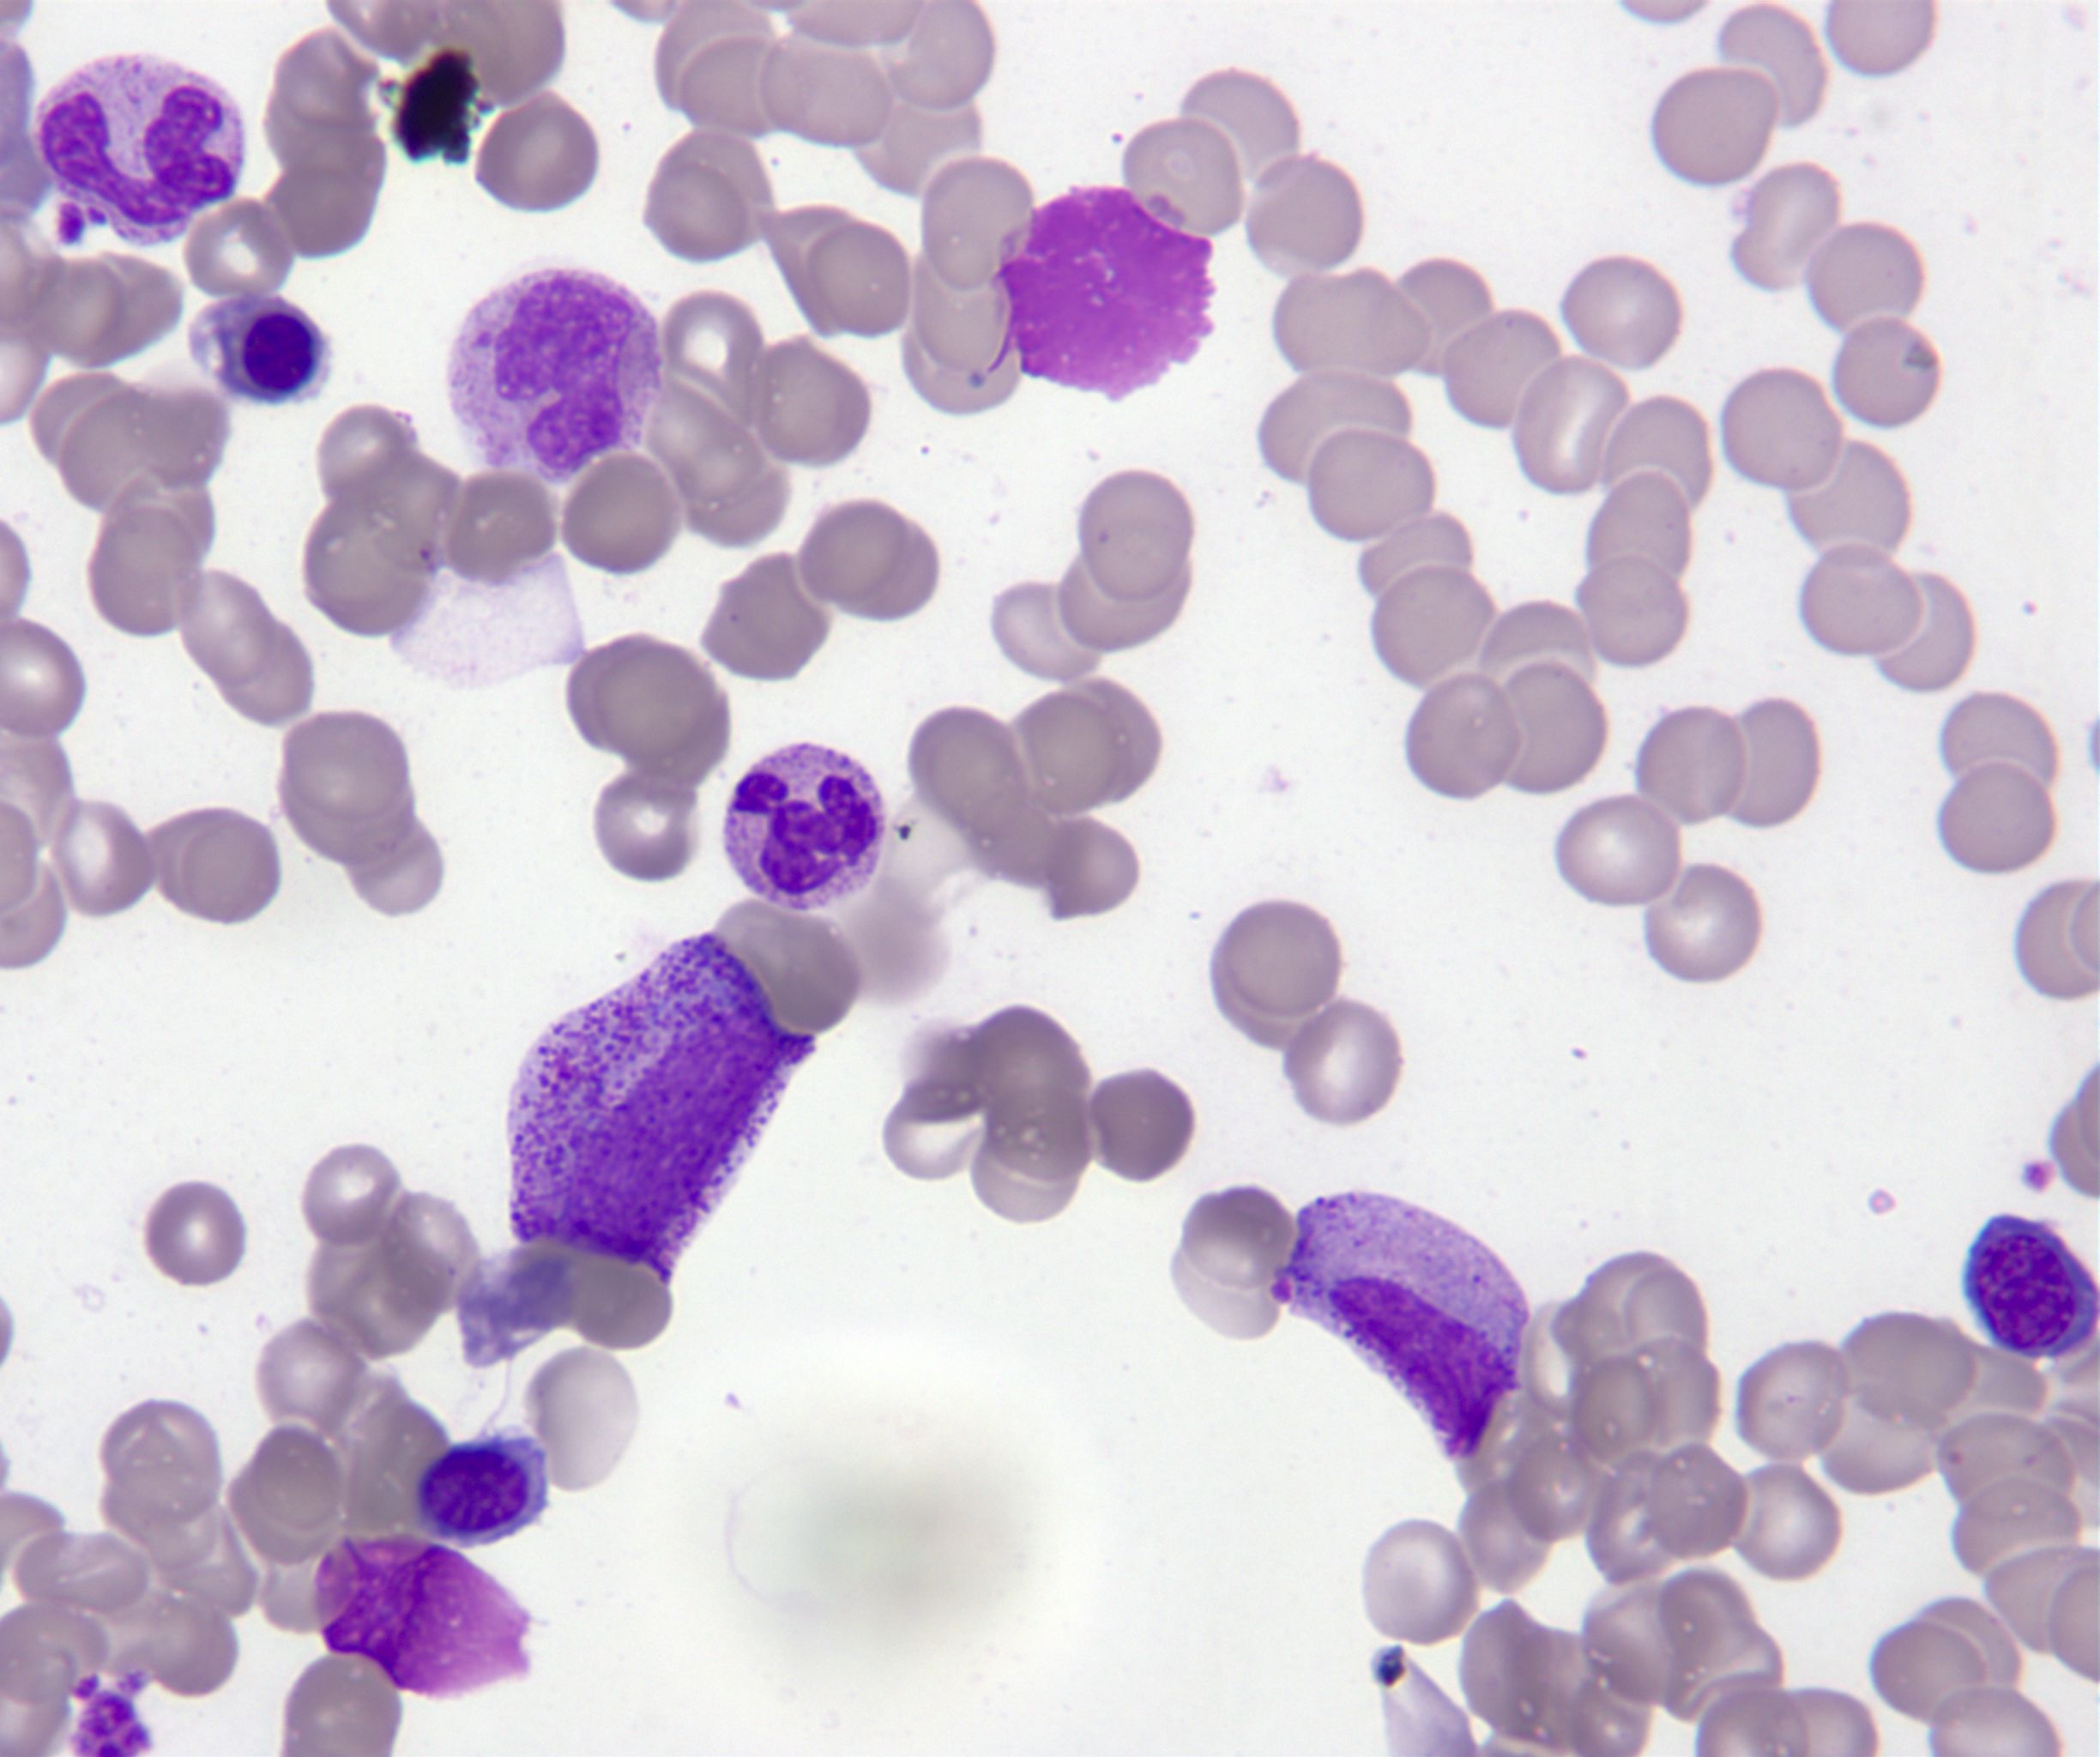2: (1957, 1211, 2100, 1366)
24: (181, 286, 342, 412), (412, 1432, 560, 1553)
3: (506, 926, 822, 1284), (1266, 1181, 1544, 1466)
5: (445, 258, 670, 497), (30, 45, 248, 248)
6: (717, 736, 895, 921)
x: (987, 180, 1223, 408)
